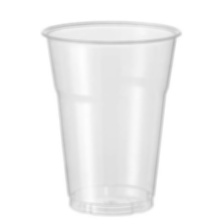glass: (37, 11, 183, 221)
